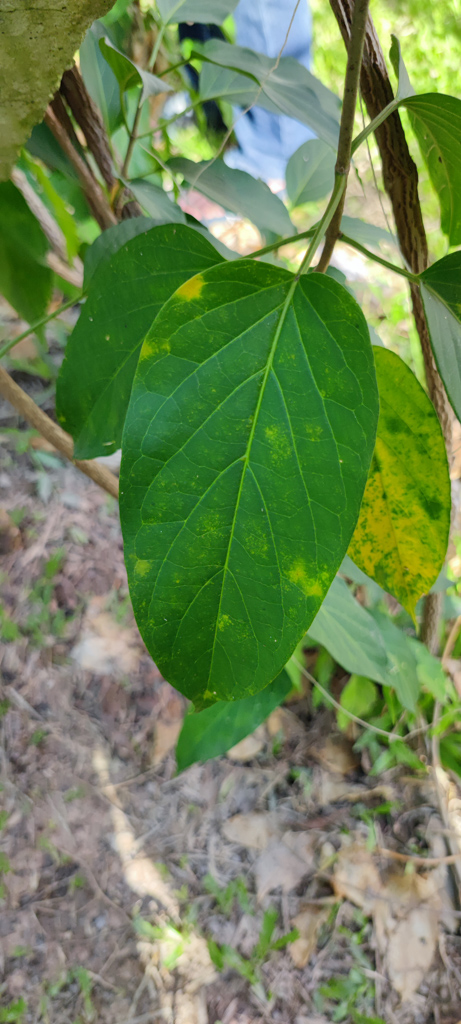Pepper yellow leaf: (341, 341, 452, 630), (270, 547, 327, 605), (159, 269, 218, 305), (123, 546, 165, 588), (132, 332, 179, 369)
